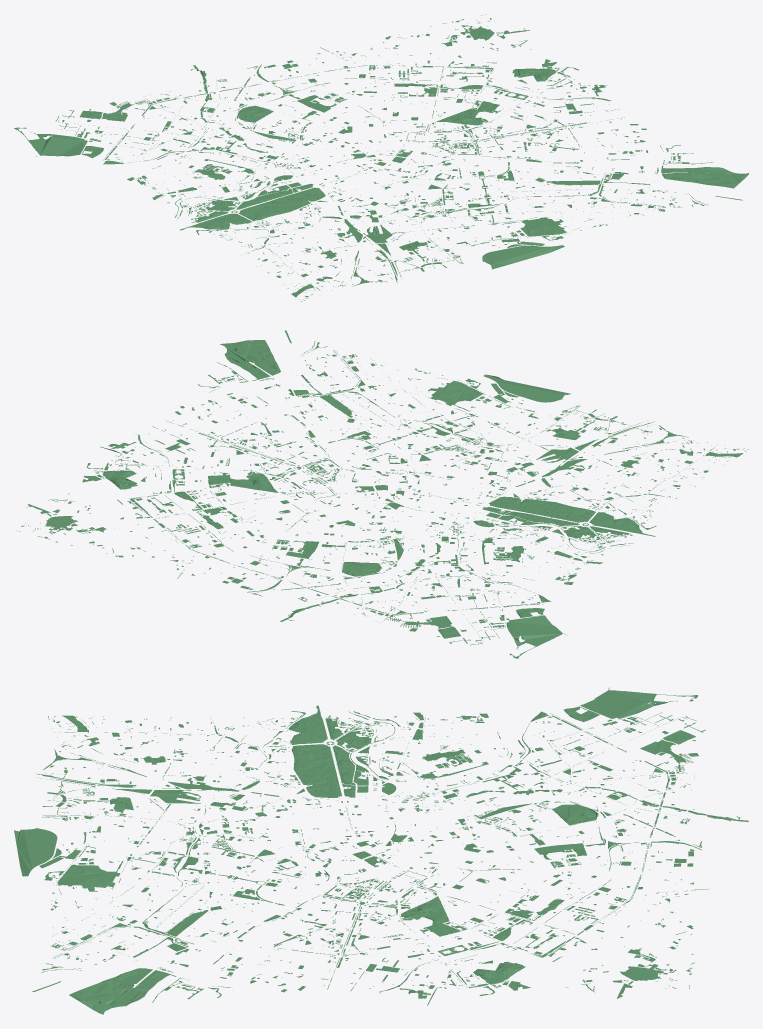
Rendered from green.glb.
3 renders of one model, top to bottom at view 1: azimuth 30°, elevation 25°; view 2: azimuth 150°, elevation 25°; view 3: azimuth 270°, elevation 25°, orthographic. The views are drawn at different scales.
Parts seen in each view (by area): view 1: green; view 2: green; view 3: green.
Part boxes in pixels (left/top/right/bottom): green: left=14, top=14, right=748, bottom=301; green: left=16, top=330, right=748, bottom=658; green: left=14, top=687, right=748, bottom=1014.
Bounding box in the file's own units: 10853 × 86.11 × 10298.
